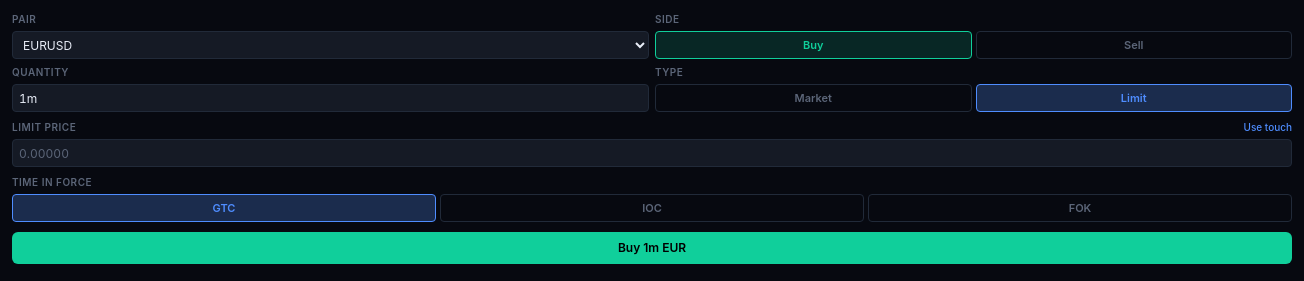
Scenario: OrderTicket › prefills the limit from the touch price on the side being traded
The image size is (1304, 281).
Click the button with test id "order-use-touch".
click(1268, 128)  # box top-left (1244, 120), bottom-right (1292, 135)
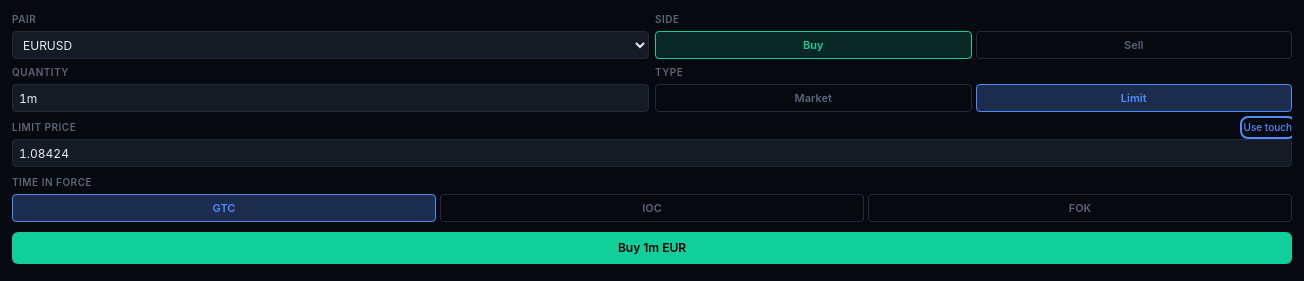
Now the field with test id "order-limit" holds "1.08424", box top-left (12, 139), bottom-right (1292, 167)
Click the button with test id "order-side-Sell".
click(1134, 45)  # box top-left (976, 31), bottom-right (1292, 59)
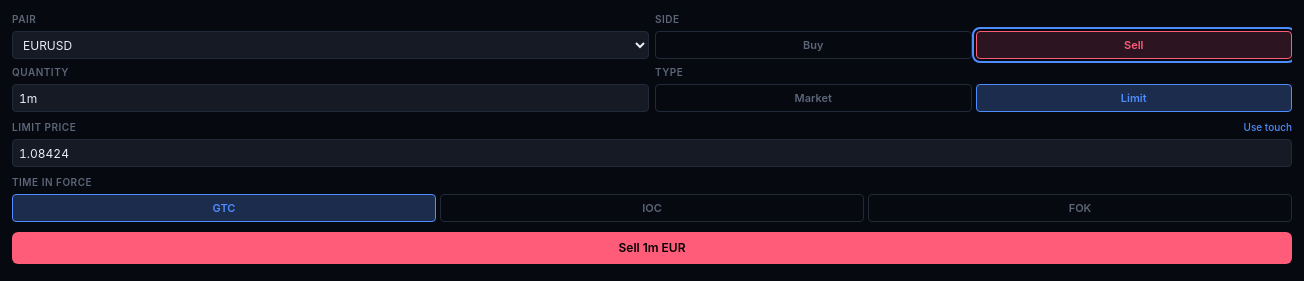
Click the button with test id "order-use-touch".
click(1268, 128)  # box top-left (1244, 120), bottom-right (1292, 135)
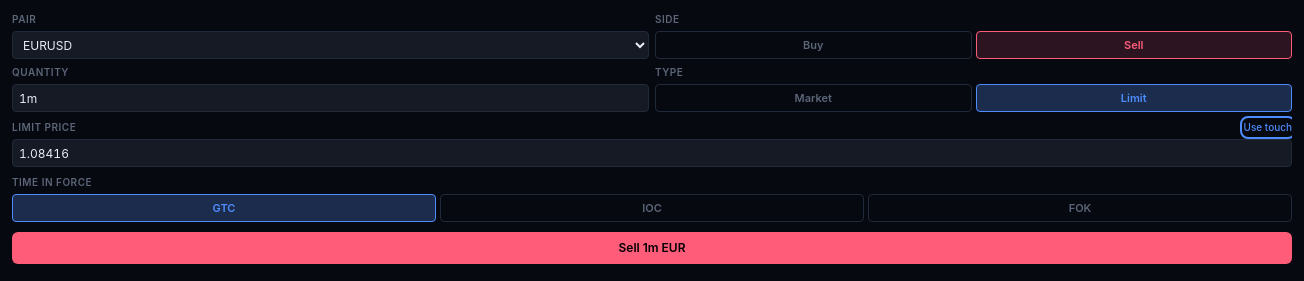
Now the field with test id "order-limit" holds "1.08416", box top-left (12, 139), bottom-right (1292, 167)
